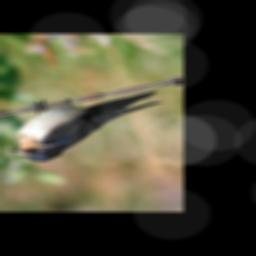Swallow: (7, 88, 163, 164)
